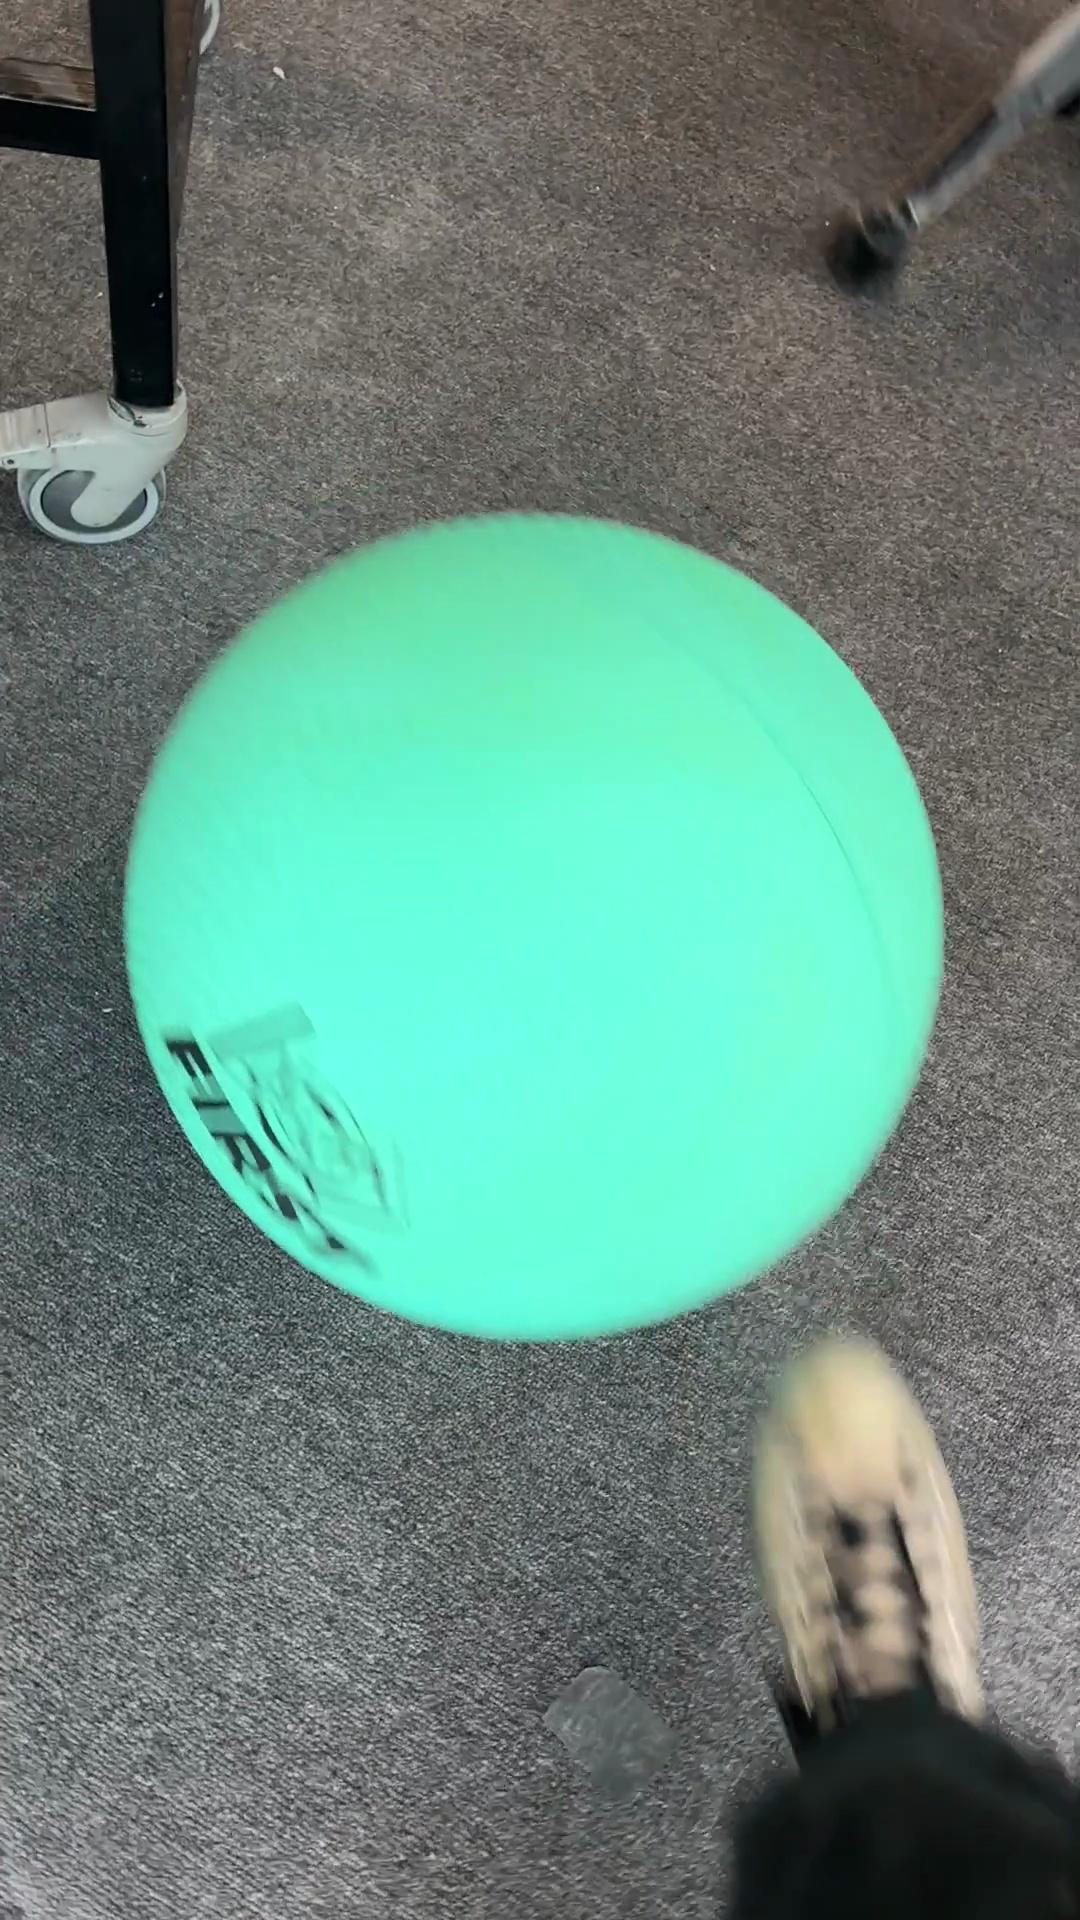ALGAE: (119, 506, 947, 1346)
